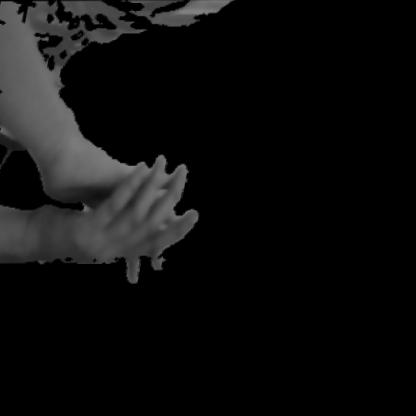clap: (8, 95, 235, 298)
